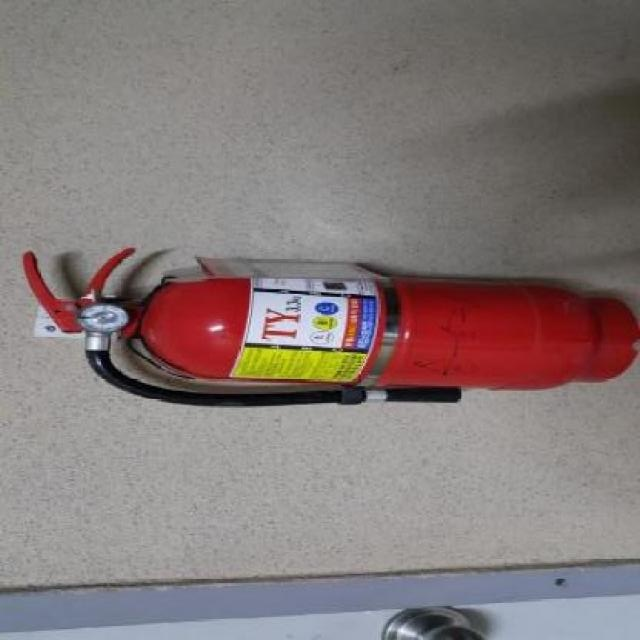fire extinguisher: (21, 249, 640, 409)
